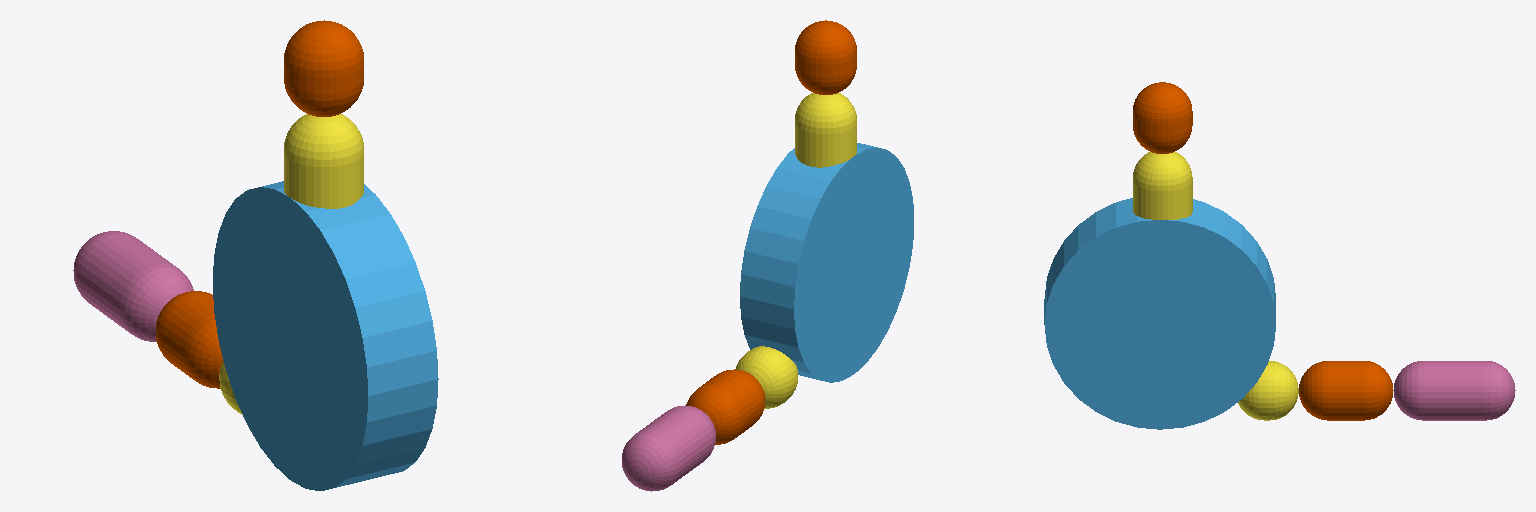
The robot description file, URDF, robot "DexterousHand":
<?xml version="1.0"?>
<robot name="DexterousHand">


    <link name="world"/>
    <joint name="world_to_palm" type="fixed">
        <parent link="world"/>
        <child link="palm"/>
        <origin xyz="0 0 0" rpy="0 0 0"/>
    </joint>
    <link name="palm">
        <inertial>
            <origin xyz="0 0 0.057" rpy="0 0 0"/>
            <mass value="0.30212892864"/>
            <inertia ixx="0.00049080844457568" ixy="0.0" ixz="0.0" iyy="0.00026746366246427523" iyz="0.0" izz="0.00026746366246427523"/>
        </inertial>
        <visual>
            <origin xyz="0 0 0.057" rpy="1.5708 0 1.5708"/>
            <geometry>
                <cylinder radius="0.057" length="0.0296"/>
            </geometry>
            <material name="default"/>
        </visual>
        <collision>
            <origin xyz="0 0 0.057" rpy="1.5708 0 1.5708"/>
            <geometry>
                <cylinder radius="0.057" length="0.0296"/>
            </geometry>
        </collision>
    </link>

    
    <joint name="thumb_joint1" type="revolute">
        <parent link="palm"/>
        <child link="thumb_base"/>
        <origin xyz="0.0029 0.0368 0.0157" rpy="-1.5708 -1.5708 0.0"/>
        <axis xyz="-1 0 0"/>
        <limit lower="-0.349" upper="2.094" effort="1.0" velocity="1.0"/>
    </joint>

    <link name="thumb_base"></link>

    <joint name="thumb_joint2" type="revolute">
        <parent link="thumb_base"/>
        <child link="thumb_proximal"/>
        <origin xyz="0.0 0.0 0.0" rpy="0.0 0.0 0.0"/>
        <axis xyz="0 0 1"/>
        <limit lower="-0.47" upper="2.443" effort="1.0" velocity="1.0"/>
    </joint>

    <link name="thumb_proximal">
        <inertial>
            <origin xyz="0 0 0.01565" rpy="0 0 0"/>
            <mass value="0.021538658803200002"/>
            <inertia ixx="2.9378910096388167e-06" ixy="0.0" ixz="0.0" 
            iyy="2.9378910096388167e-06" iyz="0.0" izz="2.358913912126464e-06"/>
        </inertial>
        <visual>
            <origin xyz="0 0 0.01565" rpy="0 0 0"/>
            <geometry>
                <cylinder radius="0.0148" length="0.0017000000000000001"/>
            </geometry>
            <material name="default"/>
        </visual>
        <visual>
            <origin xyz="0 0 0.0148" rpy="0 0 0"/>
            <geometry>
                <sphere radius="0.0148"/>
            </geometry>
            <material name="default"/>
        </visual>
        <visual>
            <origin xyz="0 0 0.0165" rpy="0 0 0"/>
            <geometry>
                <sphere radius="0.0148"/>
            </geometry>
            <material name="default"/>
        </visual>
        <collision>
            <origin xyz="0 0 0.01565" rpy="0 0 0"/>
            <geometry>
                <cylinder radius="0.0148" length="0.0017000000000000001"/>
            </geometry>
        </collision>
        <collision>
            <origin xyz="0 0 0.0148" rpy="0 0 0"/>
            <geometry>
                <sphere radius="0.0148"/>
            </geometry>
        </collision>
        <collision>
            <origin xyz="0 0 0.0165" rpy="0 0 0"/>
            <geometry>
                <sphere radius="0.0148"/>
            </geometry>
        </collision>
    </link>

    <joint name="thumb_joint3" type="revolute">
        <parent link="thumb_proximal"/>
        <child link="thumb_knuckle"/>
        <origin xyz="0.0 0.0 0.0313" rpy="0.0 0.0 0.0"/>
        <axis xyz="1 0 0"/>
        <limit lower="0.0" upper="0.0" effort="1.0" velocity="1.0"/>
    </joint>

    <link name="thumb_knuckle"></link>

    <joint name="thumb_joint4" type="revolute">
        <parent link="thumb_knuckle"/>
        <child link="thumb_middle"/>
        <origin xyz="0 0 0" rpy="0 0 0"/> 
        <axis xyz="0 1 0"/>
        <limit lower="-1.2" upper="1.9" effort="1.0" velocity="1.0"/>
    </joint>

    <link name="thumb_middle">
        <inertial>
            <origin xyz="0 0 0.0233" rpy="0 0 0"/>
            <mass value="0.032067140582400004"/>
            <inertia ixx="7.5589732685519385e-06" ixy="0.0" ixz="0.0" 
            iyy="7.5589732685519385e-06" iyz="0.0" izz="3.5119932365844485e-06"/>
        </inertial>
        <visual>
            <origin xyz="0 0 0.0233" rpy="0 0 0"/>
            <geometry>
                <cylinder radius="0.0148" length="0.017"/>
            </geometry>
            <material name="default"/>
        </visual>
        <visual>
            <origin xyz="0 0 0.0148" rpy="0 0 0"/>
            <geometry>
                <sphere radius="0.0148"/>
            </geometry>
            <material name="default"/>
        </visual>
        <visual>
            <origin xyz="0 0 0.0318" rpy="0 0 0"/>
            <geometry>
                <sphere radius="0.0148"/>
            </geometry>
            <material name="default"/>
        </visual>
        <collision>
            <origin xyz="0 0 0.0233" rpy="0 0 0"/>
            <geometry>
                <cylinder radius="0.0148" length="0.017"/>
            </geometry>
        </collision>
        <collision>
            <origin xyz="0 0 0.0148" rpy="0 0 0"/>
            <geometry>
                <sphere radius="0.0148"/>
            </geometry>
        </collision>
        <collision>
            <origin xyz="0 0 0.0318" rpy="0 0 0"/>
            <geometry>
                <sphere radius="0.0148"/>
            </geometry>
        </collision>
    </link>

    <joint name="thumb_joint5" type="revolute">
        <parent link="thumb_middle"/>
        <child link="thumb_distal"/>
        <origin xyz="0 0 0.0466" rpy="0 0 0"/> 
        <axis xyz="0 1 0"/>
        <limit lower="-1.34" upper="1.88" effort="1.0" velocity="1.0"/>
    </joint>

    <link name="thumb_distal">
        <inertial>
            <origin xyz="0 0 0.03" rpy="0 0 0"/>
            <mass value="0.04128816384"/>
            <inertia ixx="1.46473890038784e-05" ixy="0.0" ixz="0.0" 
            iyy="1.46473890038784e-05" iyz="0.0" izz="4.521879703756801e-06"/>
        </inertial>
        <visual>
            <origin xyz="0 0 0.03" rpy="0 0 0"/>
            <geometry>
                <cylinder radius="0.0148" length="0.030399999999999996"/>
            </geometry>
            <material name="default"/>
        </visual>
        <visual>
            <origin xyz="0 0 0.0148" rpy="0 0 0"/>
            <geometry>
                <sphere radius="0.0148"/>
            </geometry>
            <material name="default"/>
        </visual>
        <visual>
            <origin xyz="0 0 0.0452" rpy="0 0 0"/>
            <geometry>
                <sphere radius="0.0148"/>
            </geometry>
            <material name="default"/>
        </visual>
        <collision>
            <origin xyz="0 0 0.03" rpy="0 0 0"/>
            <geometry>
                <cylinder radius="0.0148" length="0.030399999999999996"/>
            </geometry>
        </collision>
        <collision>
            <origin xyz="0 0 0.0148" rpy="0 0 0"/>
            <geometry>
                <sphere radius="0.0148"/>
            </geometry>
        </collision>
        <collision>
            <origin xyz="0 0 0.0452" rpy="0 0 0"/>
            <geometry>
                <sphere radius="0.0148"/>
            </geometry>
        </collision>
    </link>

    
    <joint name="index_joint1" type="revolute">
        <parent link="palm"/>
        <child link="index_proximal"/>
        <origin xyz="0.0 0.0 0.0" rpy="0.0 0.0 0.0"/>
        <axis xyz="1 0 0"/>
        <limit lower="0.0" upper="0.0" effort="1.0" velocity="1.0"/>
    </joint>

    <link name="index_proximal">
    </link>

    <joint name="index_joint2" type="revolute">
        <parent link="index_proximal"/>
        <child link="index_dummy"/>
        <origin xyz="0.0 0.0 0.0" rpy="0.0 0.0 0.0"/>
        <axis xyz="0 1 0"/>
        <limit lower="0.0" upper="0.0" effort="1.0" velocity="1.0"/>
    </joint>

    <link name="index_dummy"></link>

    <joint name="index_joint3" type="revolute">
        <parent link="index_dummy"/>
        <child link="index_middle"/>
        <origin xyz="0 0 0" rpy="0 0 0"/>
        <axis xyz="0 1 0"/>
        <limit lower="0.0" upper="0.0" effort="1.0" velocity="1.0"/>
    </joint>

    <link name="index_middle">
    </link>

    <joint name="index_joint4" type="revolute">
        <parent link="index_middle"/>
        <child link="index_distal"/>
        <origin xyz="0 0 0" rpy="0 0 0"/> 
        <axis xyz="0 1 0"/>
        <limit lower="0.0" upper="0.0" effort="1.0" velocity="1.0"/>
    </joint>

    <link name="index_distal">
    </link>

    
    <joint name="middle_joint1" type="revolute">
        <parent link="palm"/>
        <child link="middle_proximal"/>
        <origin xyz="0.0 0.0011 0.091" rpy="0.0 0.0 0.0"/>
        <axis xyz="0 1 0"/>
        <limit lower="-0.314" upper="2.23" effort="1.0" velocity="1.0"/>
    </joint>

    <link name="middle_proximal">
        <inertial>
            <origin xyz="0 0 0.02655" rpy="0 0 0"/>
            <mass value="0.036540024998400006"/>
            <inertia ixx="1.058665009272394e-05" ixy="0.0" ixz="0.0" 
            iyy="1.058665009272394e-05" iyz="0.0" izz="4.001863537824769e-06"/>
        </inertial>
        <visual>
            <origin xyz="0 0 0.02655" rpy="0 0 0"/>
            <geometry>
                <cylinder radius="0.0148" length="0.0235"/>
            </geometry>
            <material name="default"/>
        </visual>
        <visual>
            <origin xyz="0 0 0.0148" rpy="0 0 0"/>
            <geometry>
                <sphere radius="0.0148"/>
            </geometry>
            <material name="default"/>
        </visual>
        <visual>
            <origin xyz="0 0 0.0383" rpy="0 0 0"/>
            <geometry>
                <sphere radius="0.0148"/>
            </geometry>
            <material name="default"/>
        </visual>
        <collision>
            <origin xyz="0 0 0.02655" rpy="0 0 0"/>
            <geometry>
                <cylinder radius="0.0148" length="0.0235"/>
            </geometry>
        </collision>
        <collision>
            <origin xyz="0 0 0.0148" rpy="0 0 0"/>
            <geometry>
                <sphere radius="0.0148"/>
            </geometry>
        </collision>
        <collision>
            <origin xyz="0 0 0.0383" rpy="0 0 0"/>
            <geometry>
                <sphere radius="0.0148"/>
            </geometry>
        </collision>
    </link>

    <joint name="middle_joint2" type="revolute">
        <parent link="middle_proximal"/>
        <child link="middle_dummy"/>
        <origin xyz="0.0 0.0 0.038" rpy="0.0 0.0 0.0"/>
        <axis xyz="1 0 0"/>
        <limit lower="-1.047" upper="1.047" effort="1.0" velocity="1.0"/>
    </joint>

    <link name="middle_dummy"></link>

    <joint name="middle_joint3" type="revolute">
        <parent link="middle_dummy"/>
        <child link="middle_middle"/>
        <origin xyz="0 0 0.015100000000000002" rpy="0 0 0"/>
        <axis xyz="0 1 0"/>
        <limit lower="-0.506" upper="1.885" effort="1.0" velocity="1.0"/>
    </joint>

    <link name="middle_middle">
        <inertial>
            <origin xyz="0 0 0.01805" rpy="0 0 0"/>
            <mass value="0.0248417119104"/>
            <inertia ixx="4.058162759109537e-06" ixy="0.0" ixz="0.0" 
            iyy="4.058162759109537e-06" iyz="0.0" izz="2.7206642884270085e-06"/>
        </inertial>
        <visual>
            <origin xyz="0 0 0.01805" rpy="0 0 0"/>
            <geometry>
                <cylinder radius="0.0148" length="0.006499999999999999"/>
            </geometry>
            <material name="default"/>
        </visual>
        <visual>
            <origin xyz="0 0 0.0148" rpy="0 0 0"/>
            <geometry>
                <sphere radius="0.0148"/>
            </geometry>
            <material name="default"/>
        </visual>
        <visual>
            <origin xyz="0 0 0.0213" rpy="0 0 0"/>
            <geometry>
                <sphere radius="0.0148"/>
            </geometry>
            <material name="default"/>
        </visual>
        <collision>
            <origin xyz="0 0 0.01805" rpy="0 0 0"/>
            <geometry>
                <cylinder radius="0.0148" length="0.006499999999999999"/>
            </geometry>
        </collision>
        <collision>
            <origin xyz="0 0 0.0148" rpy="0 0 0"/>
            <geometry>
                <sphere radius="0.0148"/>
            </geometry>
        </collision>
        <collision>
            <origin xyz="0 0 0.0213" rpy="0 0 0"/>
            <geometry>
                <sphere radius="0.0148"/>
            </geometry>
        </collision>
    </link>

    <joint name="middle_joint4" type="revolute">
        <parent link="middle_middle"/>
        <child link="middle_distal"/>
        <origin xyz="0 0 0.0361" rpy="0 0 0"/> 
        <axis xyz="0 1 0"/>
        <limit lower="0.0" upper="0.0" effort="1.0" velocity="1.0"/>
    </joint>

    <link name="middle_distal">
    </link>

    
    <joint name="ring_joint1" type="revolute">
        <parent link="palm"/>
        <child link="ring_proximal"/>
        <origin xyz="0.0 0.0 0.0" rpy="0.0 0.0 0.0"/>
        <axis xyz="1 0 0"/>
        <limit lower="0.0" upper="0.0" effort="1.0" velocity="1.0"/>
    </joint>

    <link name="ring_proximal">
    </link>

    <joint name="ring_joint2" type="revolute">
        <parent link="ring_proximal"/>
        <child link="ring_dummy"/>
        <origin xyz="0.0 0.0 0.0" rpy="0.0 0.0 0.0"/>
        <axis xyz="0 1 0"/>
        <limit lower="0.0" upper="0.0" effort="1.0" velocity="1.0"/>
    </joint>

    <link name="ring_dummy"></link>

    <joint name="ring_joint3" type="revolute">
        <parent link="ring_dummy"/>
        <child link="ring_middle"/>
        <origin xyz="0 0 0" rpy="0 0 0"/>
        <axis xyz="0 1 0"/>
        <limit lower="0.0" upper="0.0" effort="1.0" velocity="1.0"/>
    </joint>

    <link name="ring_middle">
    </link>

    <joint name="ring_joint4" type="revolute">
        <parent link="ring_middle"/>
        <child link="ring_distal"/>
        <origin xyz="0 0 0" rpy="0 0 0"/> 
        <axis xyz="0 1 0"/>
        <limit lower="0.0" upper="0.0" effort="1.0" velocity="1.0"/>
    </joint>

    <link name="ring_distal">
    </link>

    
    <joint name="little_joint0" type="revolute">
        <parent link="palm"/>
        <child link="little_base"/>
        <origin xyz="0.0 0.0 0.0" rpy="0.0 0.0 0.0"/>
        <axis xyz="0 1 0"/>
        <limit lower="0.0" upper="0.0" effort="1.0" velocity="1.0"/>
    </joint>

    <link name="little_base"></link>

    <joint name="little_joint1" type="revolute">
        <parent link="little_base"/>
        <child link="little_proximal"/>
        <origin xyz="0.0 0.0 0.0" rpy="-0.0 -0.0 -0.0"/>
        <axis xyz="1 0 0"/>
        <limit lower="0.0" upper="0.0" effort="1.0" velocity="1.0"/>
    </joint>

    <link name="little_proximal">
    </link>

    <joint name="little_joint2" type="revolute">
        <parent link="little_proximal"/>
        <child link="little_dummy"/>
        <origin xyz="0.0 0.0 0.0" rpy="0.0 0.0 0.0"/>
        <axis xyz="0 1 0"/>
        <limit lower="0.0" upper="0.0" effort="1.0" velocity="1.0"/>
    </joint>

    <link name="little_dummy"></link>

    <joint name="little_joint3" type="revolute">
        <parent link="little_dummy"/>
        <child link="little_middle"/>
        <origin xyz="0 0 0" rpy="0 0 0"/>
        <axis xyz="0 1 0"/>
        <limit lower="0.0" upper="0.0" effort="1.0" velocity="1.0"/>
    </joint>

    <link name="little_middle">
    </link>

    <joint name="little_joint4" type="revolute">
        <parent link="little_middle"/>
        <child link="little_distal"/>
        <origin xyz="0 0 0" rpy="0 0 0"/>
        <axis xyz="0 1 0"/>
        <limit lower="0.0" upper="0.0" effort="1.0" velocity="1.0"/>
    </joint>

    <link name="little_distal">
    </link>

</robot>

--- What the picture shows (computed from the rendered views, not written in the file) ---
3 views of the same robot in one strip: view 1: azimuth 30°, elevation 25°; view 2: azimuth 150°, elevation 25°; view 3: azimuth 270°, elevation 25° (orthographic).
Robot: DexterousHand — 24 links, 23 joints (22 revolute, 1 fixed); root link world; default pose: every joint at zero.
Visible links, largest first — view 1: palm, thumb_distal, middle_proximal, middle_middle, thumb_middle; view 2: palm, thumb_distal, middle_proximal, middle_middle, thumb_middle, thumb_proximal; view 3: palm, thumb_distal, thumb_middle, middle_proximal, middle_middle, thumb_proximal.
Boxes of the visible links, box(x1,y1,x2,y2) form: palm: box(213, 181, 438, 490); thumb_distal: box(73, 231, 193, 341); middle_proximal: box(284, 114, 363, 208); middle_middle: box(284, 20, 363, 116); thumb_middle: box(156, 291, 222, 388); palm: box(740, 143, 913, 382); thumb_distal: box(622, 405, 715, 491); middle_proximal: box(795, 93, 856, 167); middle_middle: box(795, 20, 856, 94); thumb_middle: box(686, 369, 764, 444); thumb_proximal: box(736, 346, 797, 408); palm: box(1044, 198, 1275, 429); thumb_distal: box(1394, 361, 1515, 420); thumb_middle: box(1299, 361, 1393, 420); middle_proximal: box(1133, 152, 1192, 219); middle_middle: box(1133, 82, 1192, 153); thumb_proximal: box(1238, 361, 1298, 420).
Bounding box of the posed robot: 0.0325 × 0.2317 × 0.1802 m (x, y, z).
Geometry: primitives only (box / cylinder / sphere), no mesh files.
